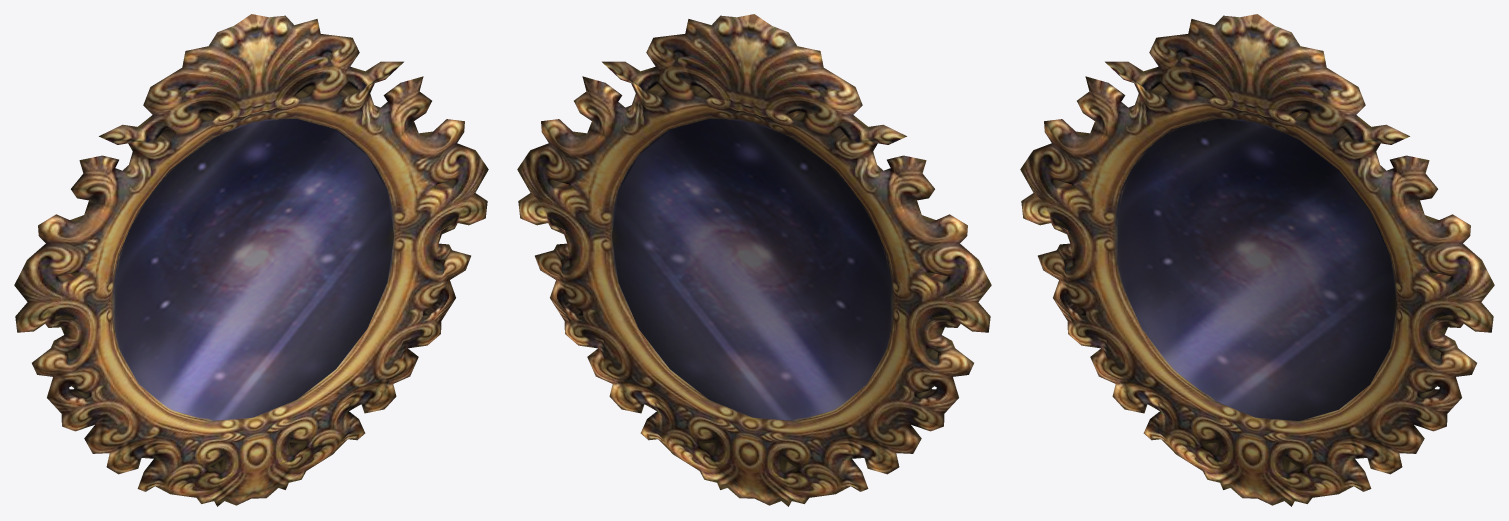
3 views of the same model, side by side, from view 1: azimuth 30°, elevation 25°; view 2: azimuth 150°, elevation 25°; view 3: azimuth 330°, elevation 25° (orthographic).
Parts seen in each view (by area): view 1: Bone001; view 2: Bone001; view 3: Bone001.
Part boxes in pixels (box(x1,y1,x2,y2)): Bone001: box(14, 14, 488, 506); Bone001: box(517, 14, 991, 506); Bone001: box(1020, 14, 1494, 506).
Bounding box in the file's own units: 68.77 × 67.56 × 3.73.
